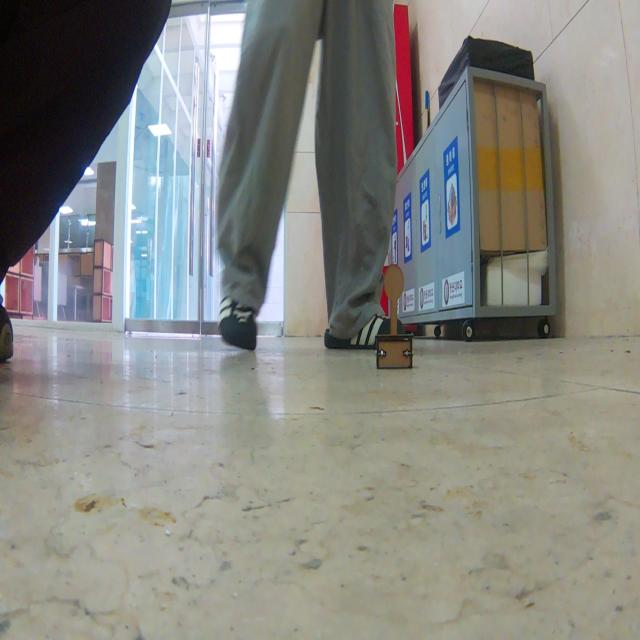target: (375, 264, 415, 370)
